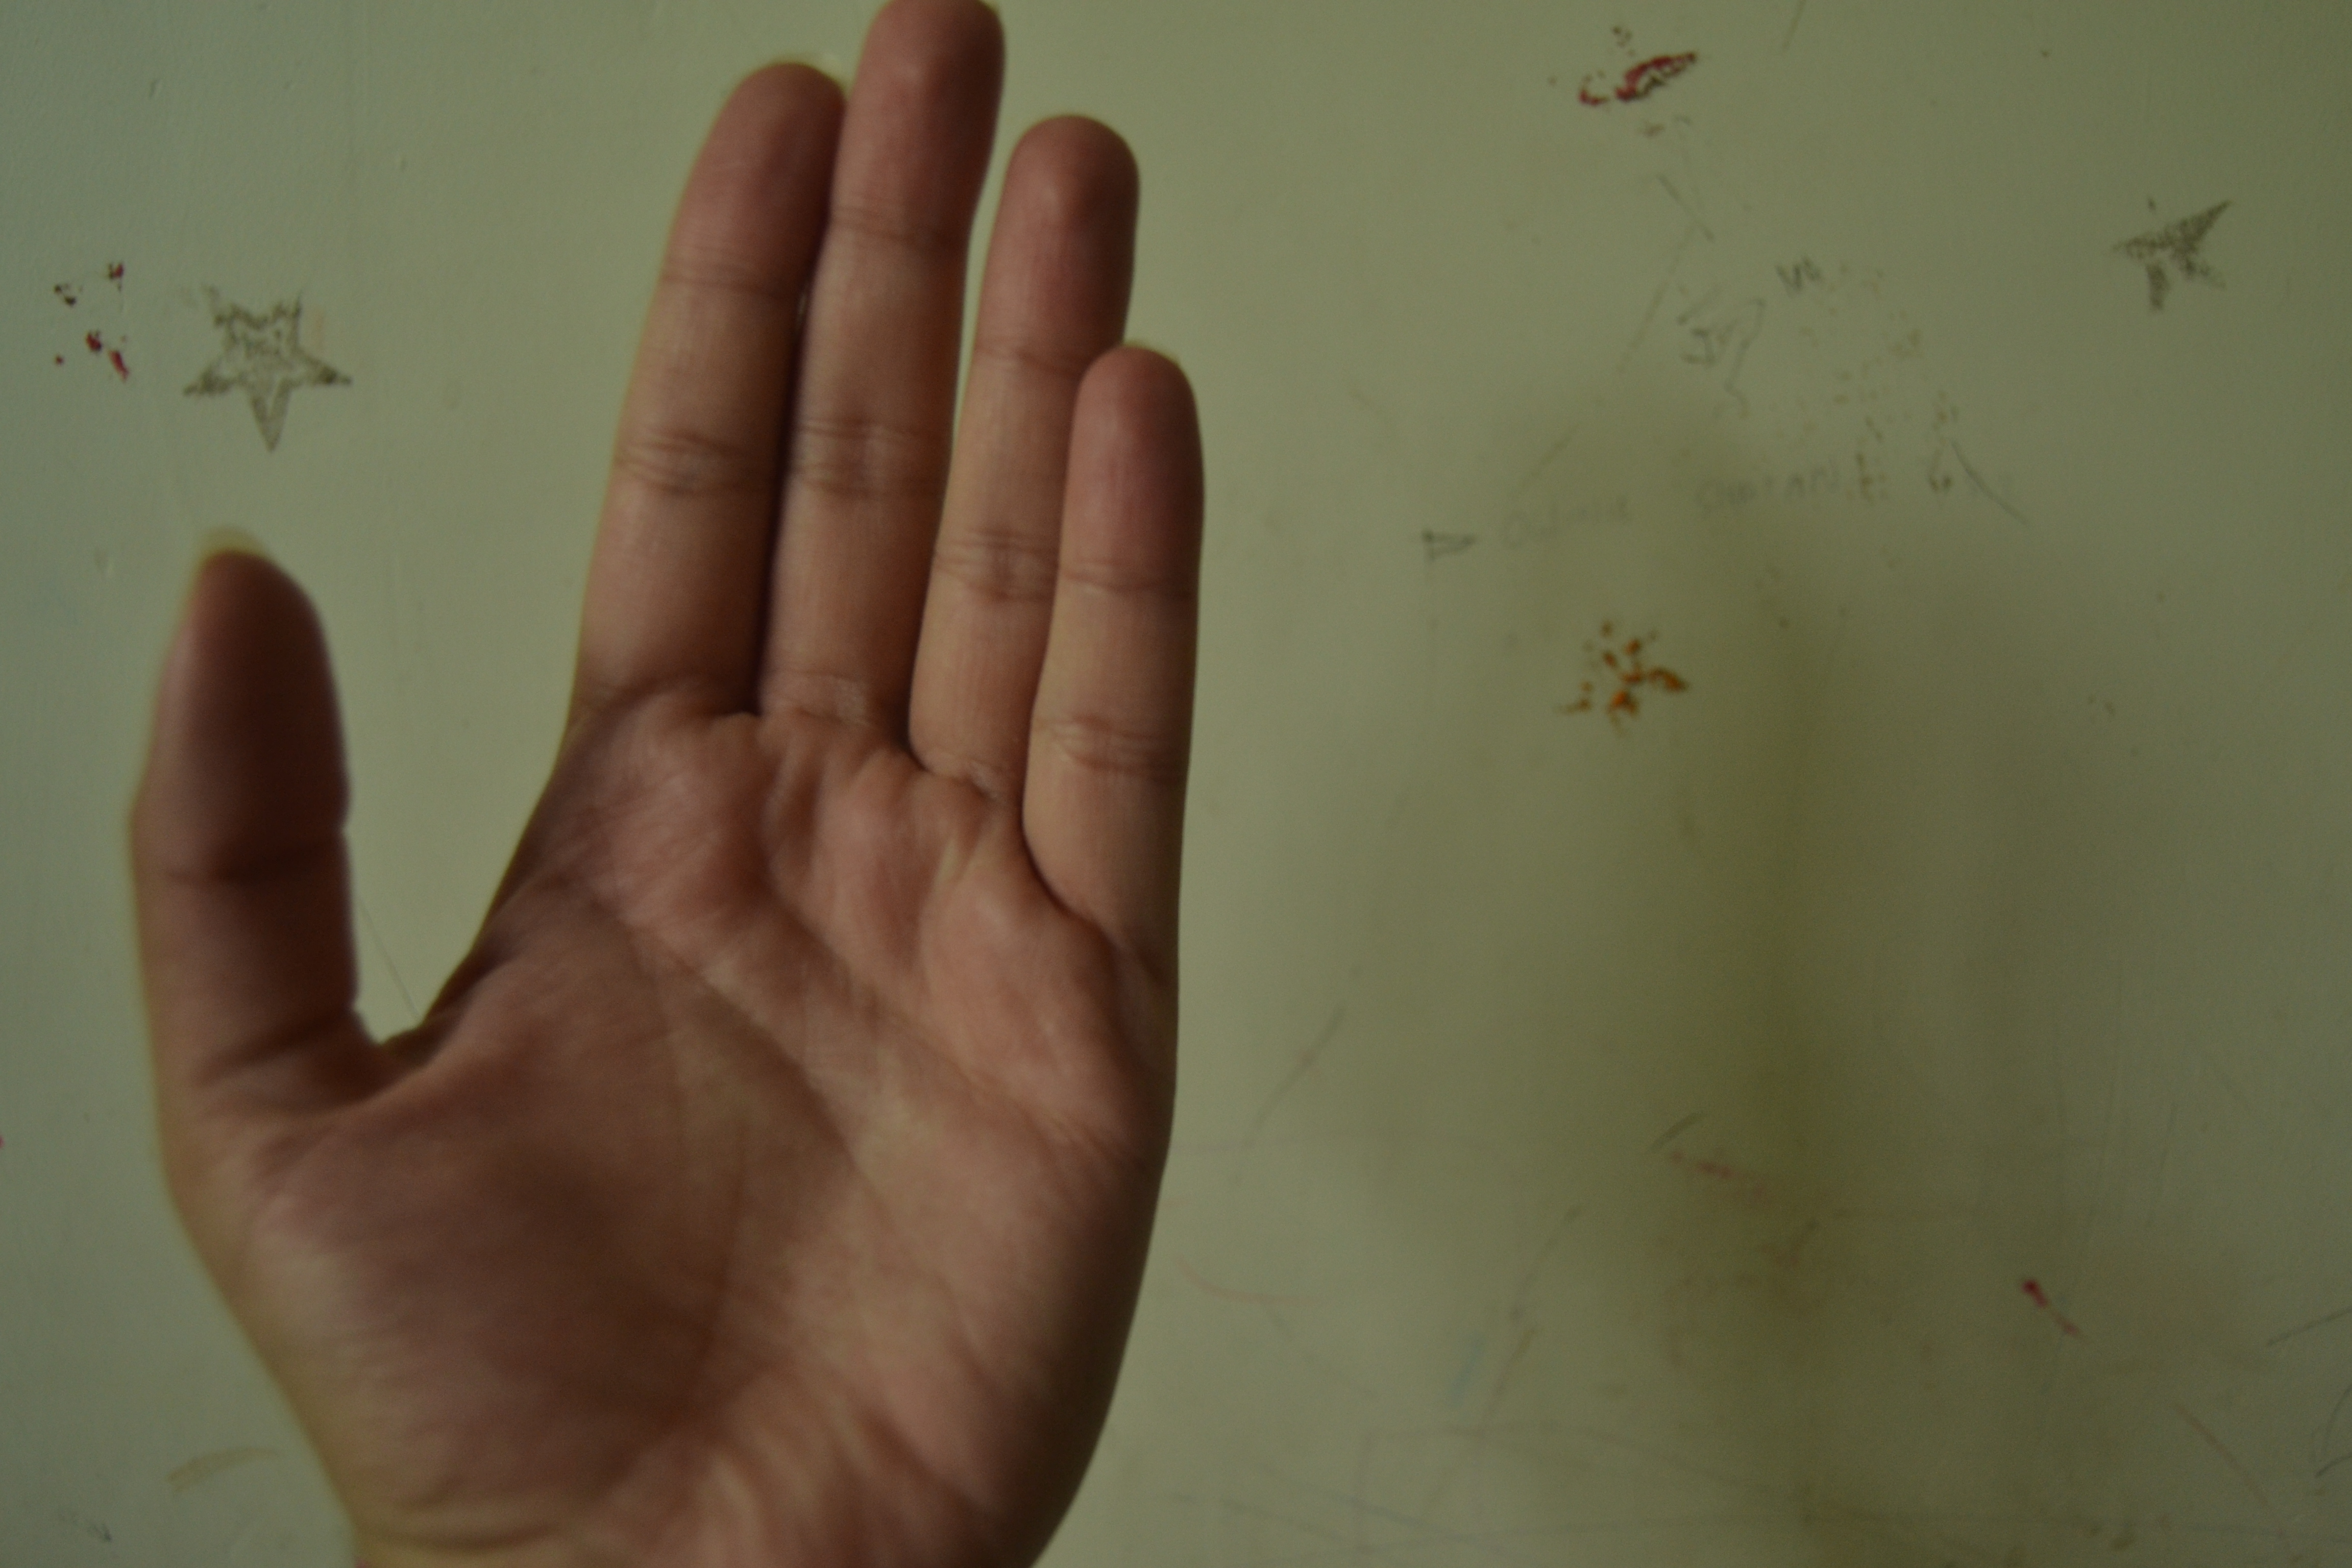move: (45, 24, 1358, 1535)
